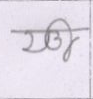i_matra: (55, 17, 76, 61)
